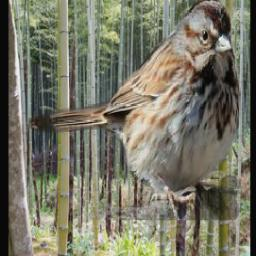Sparrow: (29, 0, 241, 221)
